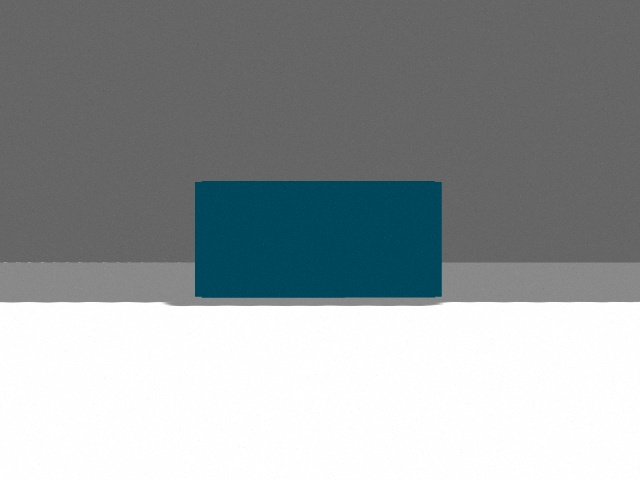blue_drop_zone: (195, 181, 442, 298)
